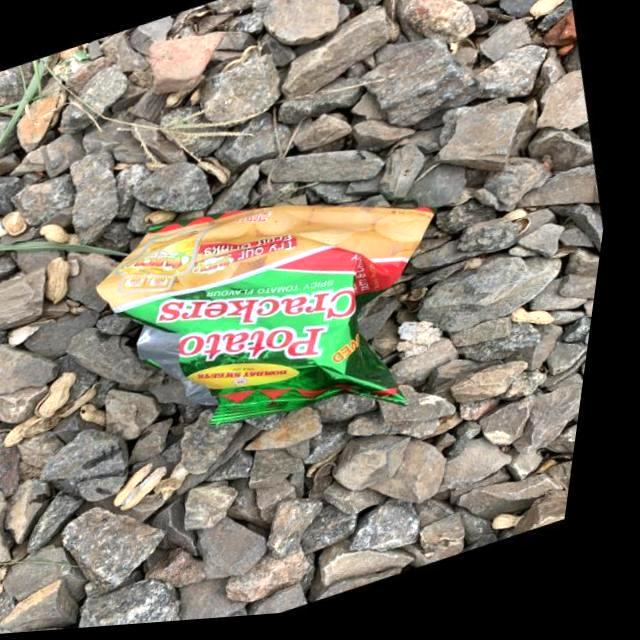packet: (129, 202, 430, 415)
